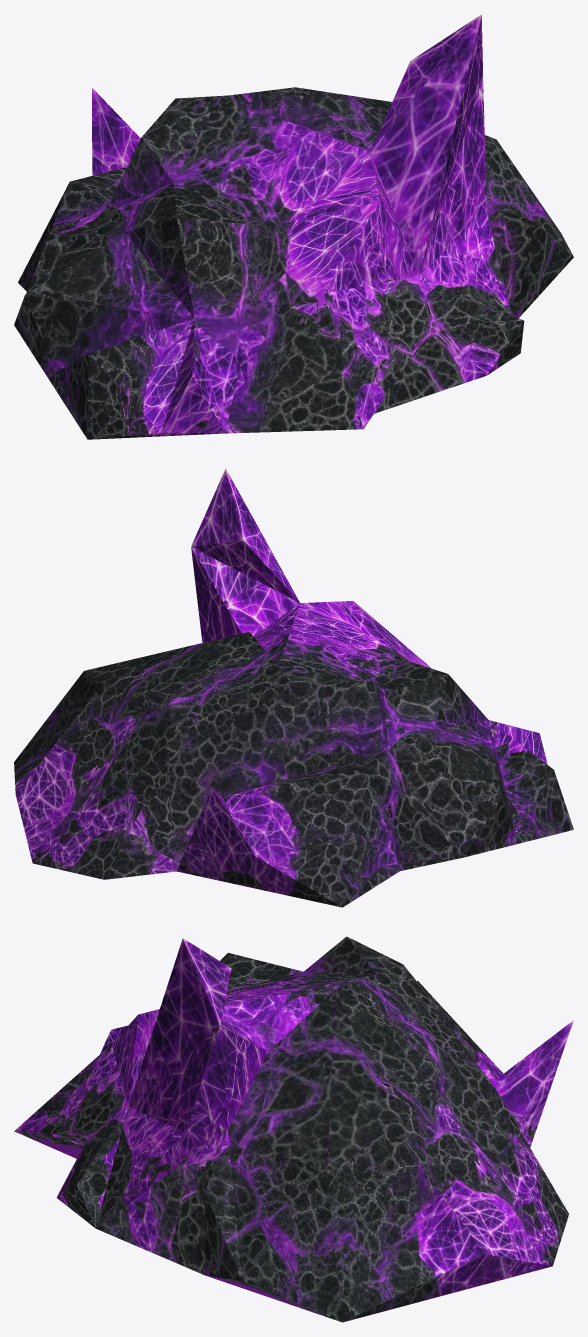
File: ore-crystal.glb
3 renders of one model, top to bottom at view 1: azimuth 30°, elevation 25°; view 2: azimuth 150°, elevation 25°; view 3: azimuth 270°, elevation 25°, orthographic. The views are drawn at different scales.
Visible parts, largest first — view 1: output_unwrapped; view 2: output_unwrapped; view 3: output_unwrapped.
Part boxes in pixels (<box>): output_unwrapped: <box>14,14,573,439</box>; output_unwrapped: <box>14,468,573,907</box>; output_unwrapped: <box>14,936,573,1322</box>.
Size of the model in its own units: 1.78 by 0.9935 by 1.59.
1 material, 1 textured.
